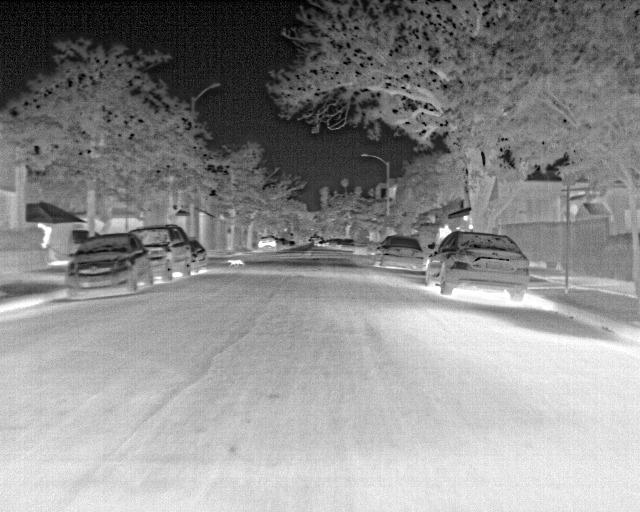bicycle: (424, 229, 532, 298), (61, 233, 153, 301), (126, 223, 193, 282), (373, 234, 429, 272), (185, 236, 208, 272), (255, 233, 281, 250)
empty: (35, 220, 55, 251), (435, 222, 452, 250)
